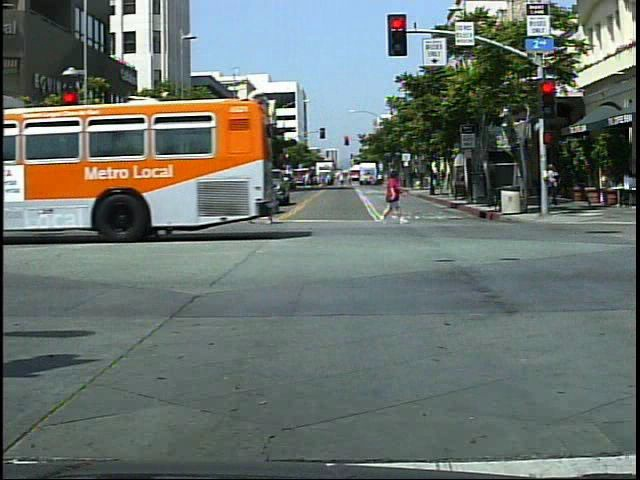person: (251, 166, 283, 230), (142, 169, 172, 235), (381, 167, 405, 228), (546, 161, 564, 212)
